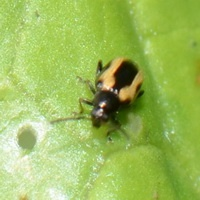insect: (51, 57, 143, 127)
